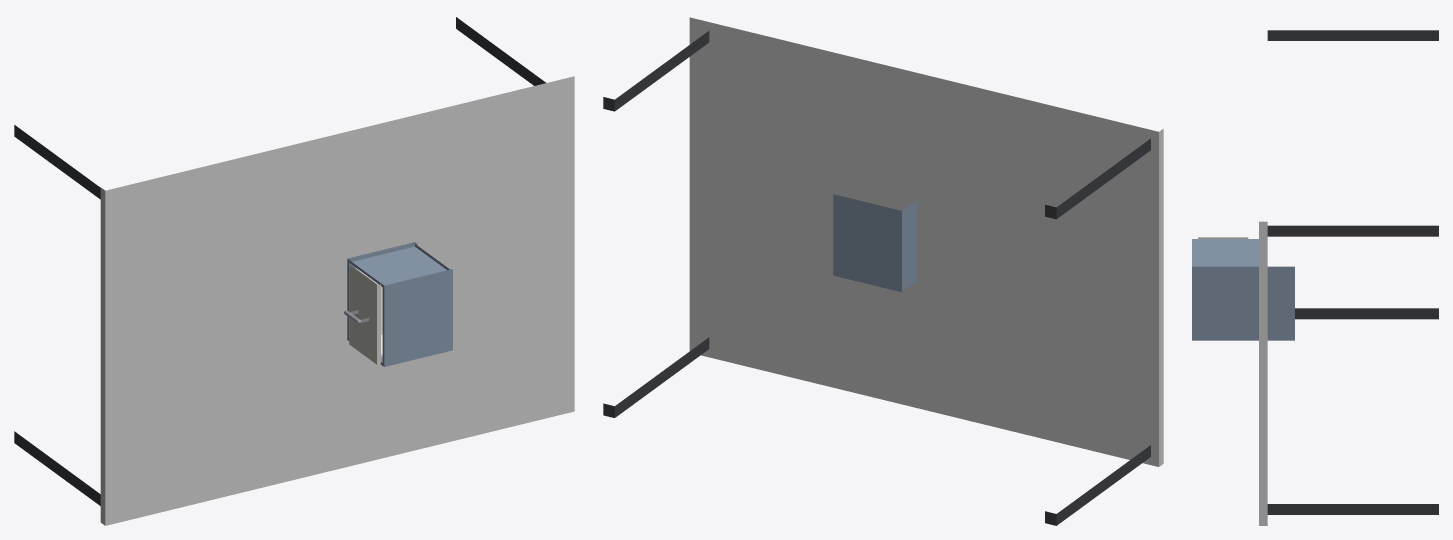
3 views of the same model, side by side, from view 1: azimuth 30°, elevation 25°; view 2: azimuth 150°, elevation 25°; view 3: azimuth 270°, elevation 25° (orthographic). The views are drawn at different scales.
Parts seen in each view (by area): view 1: s0, s1, s2; view 2: s0, s1; view 3: s0, s1.
Boxes of the visible parts, box(x1,y1,x2,y2) form: s0: box(14, 17, 574, 525); s1: box(347, 242, 452, 366); s2: box(344, 265, 382, 364); s0: box(603, 17, 1163, 525); s1: box(833, 194, 916, 292); s0: box(1259, 30, 1438, 525); s1: box(1192, 239, 1294, 340).
Bounding box in the file's own units: 2.05 × 1.4 × 1.03.
